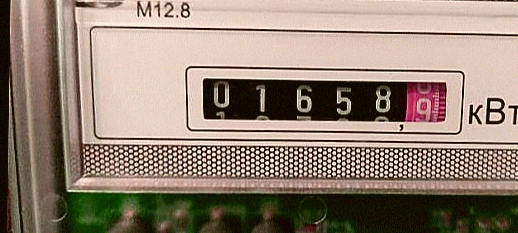0: (210, 77, 232, 109)
1: (254, 81, 268, 113)
5: (334, 84, 354, 116)
6: (294, 82, 315, 113)
8: (373, 82, 393, 115)
9: (413, 95, 432, 121)
screen: (177, 56, 469, 140)
